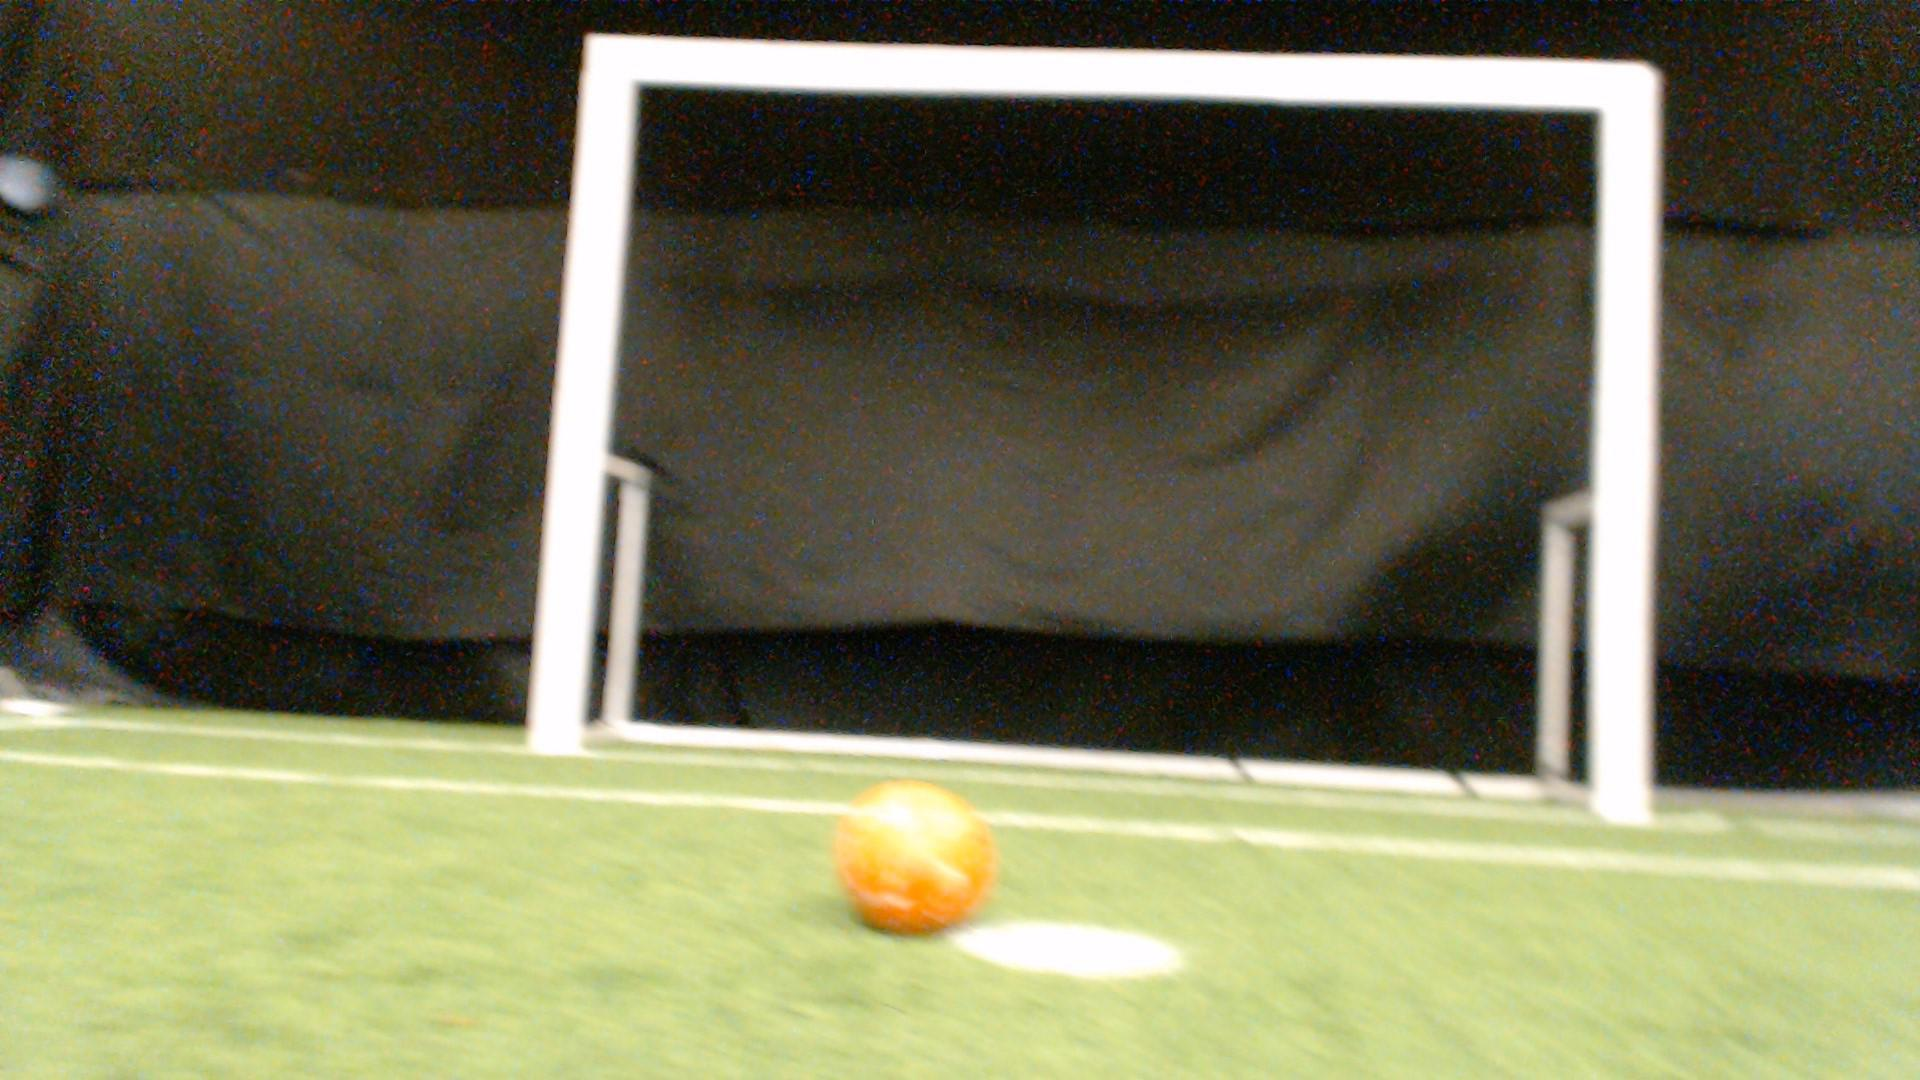bola: (828, 775, 1011, 957)
